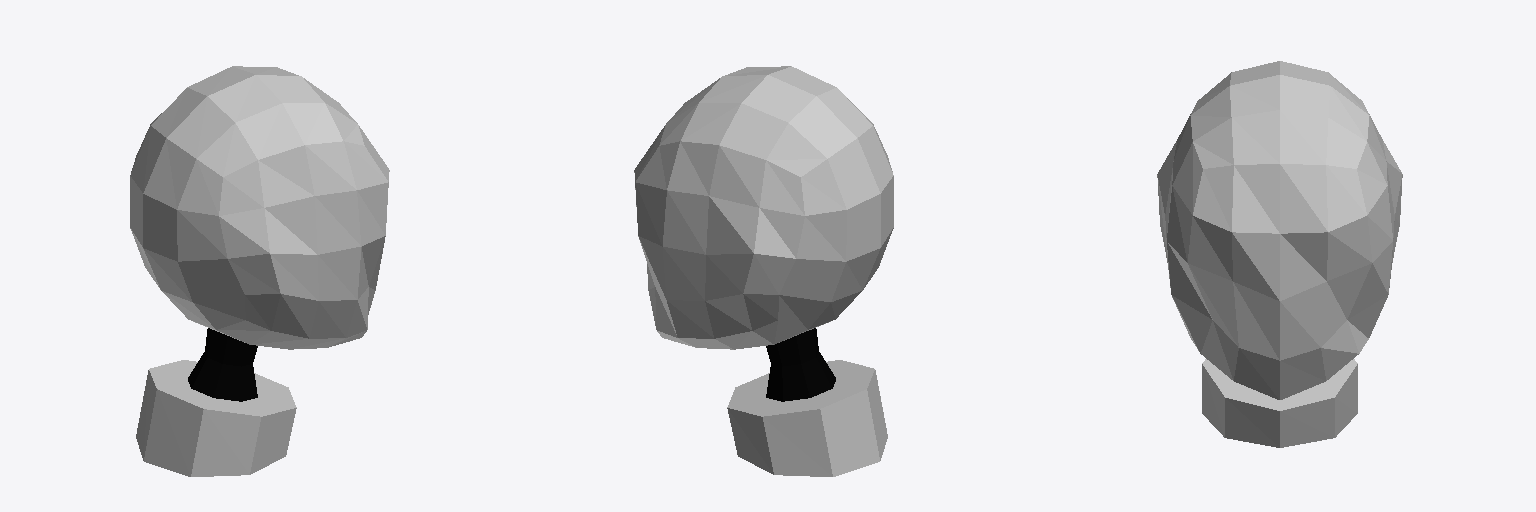
The model's file is HatStand.obj.
3 views of the same model, side by side, from view 1: azimuth 30°, elevation 25°; view 2: azimuth 150°, elevation 25°; view 3: azimuth 270°, elevation 25° (orthographic).
Visible parts, largest first — view 1: HatStand_Cylinder; view 2: HatStand_Cylinder; view 3: HatStand_Cylinder.
Part boxes in pixels (x1,y1,x2,y2): HatStand_Cylinder: (130,66,389,476); HatStand_Cylinder: (634,66,893,476); HatStand_Cylinder: (1157,61,1402,447).
Bounding box in the file's own units: 1.38 × 2.12 × 1.3.